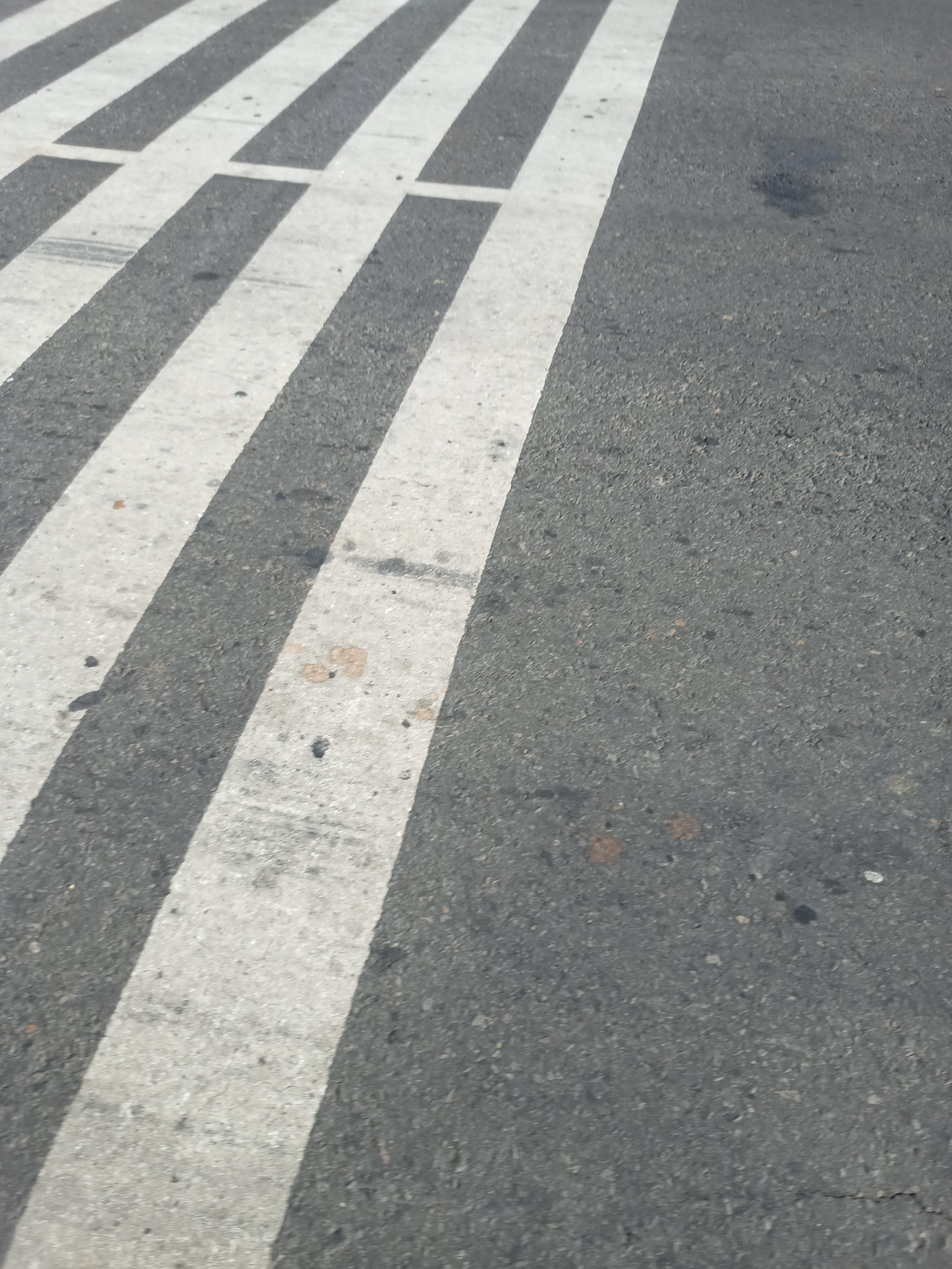crosswalk: (13, 2, 696, 1266)
